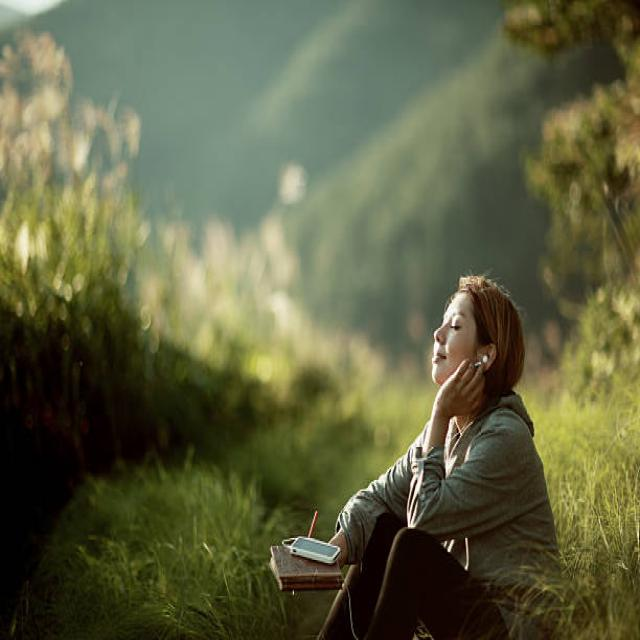Earphone: (281, 353, 488, 640)
